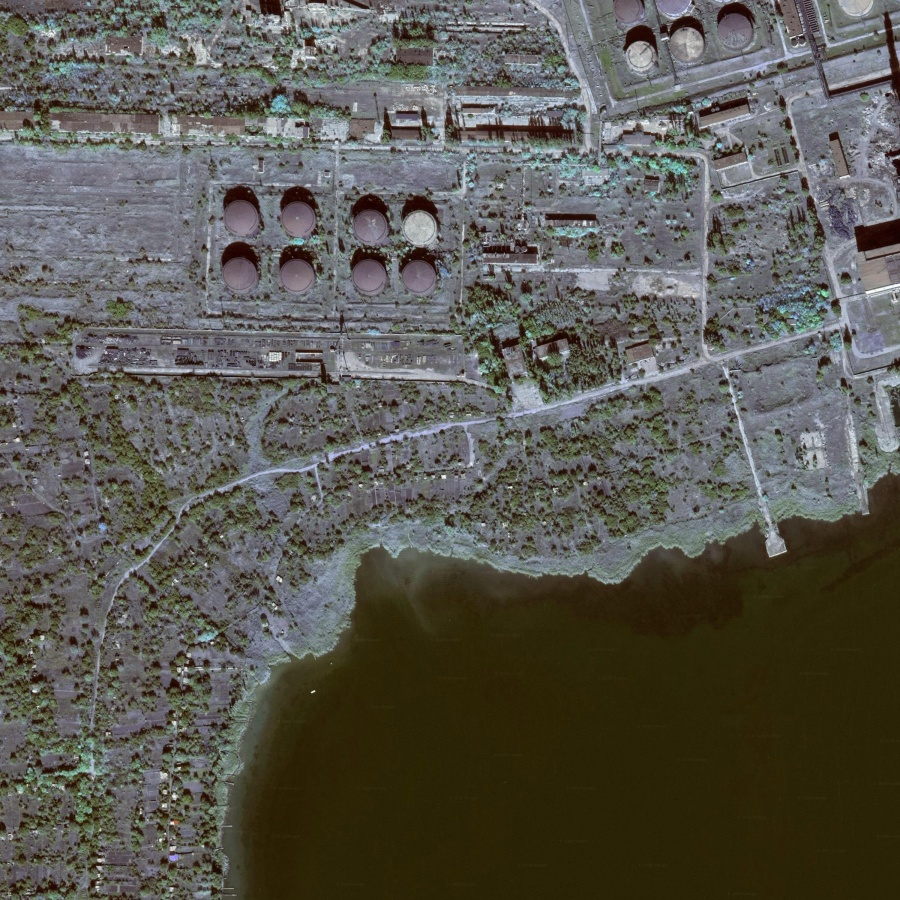PowerPlant: (188, 146, 458, 324)
